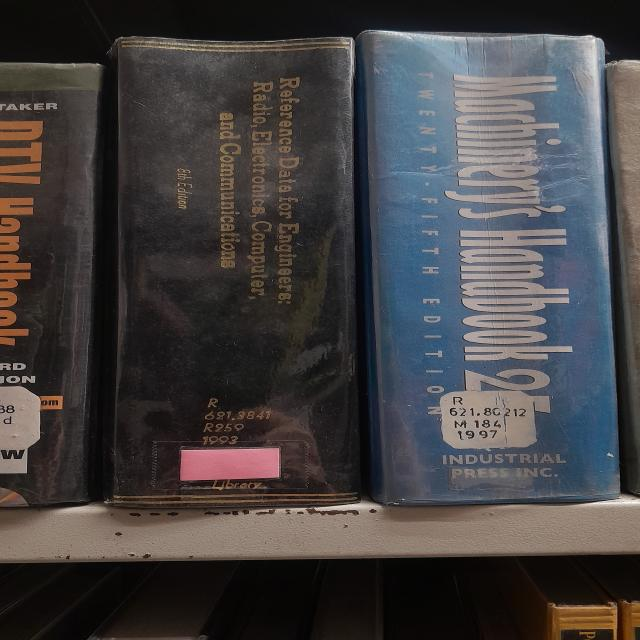book: (356, 31, 620, 505), (104, 38, 359, 507), (0, 63, 103, 508)
